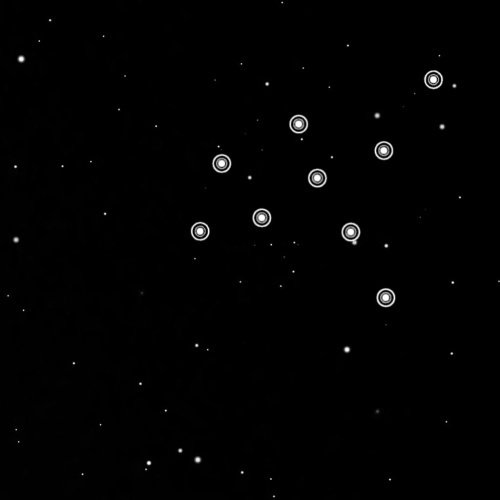cygnus: (186, 63, 449, 314)
